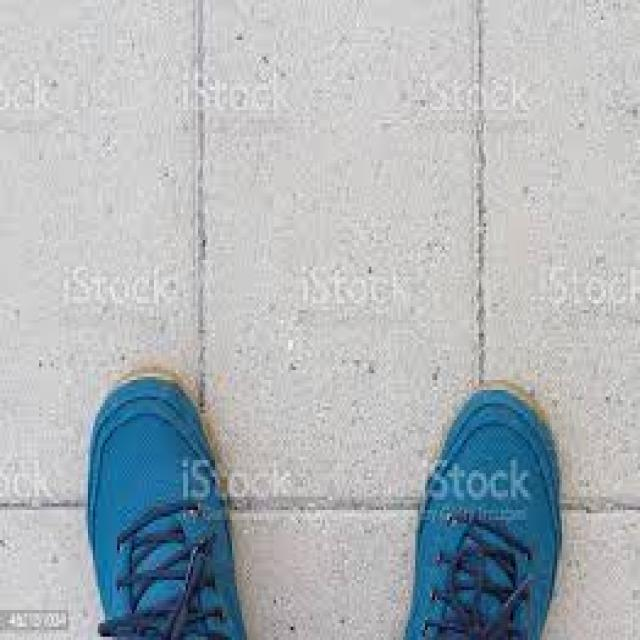shoe: (77, 366, 254, 640), (402, 374, 576, 640)
